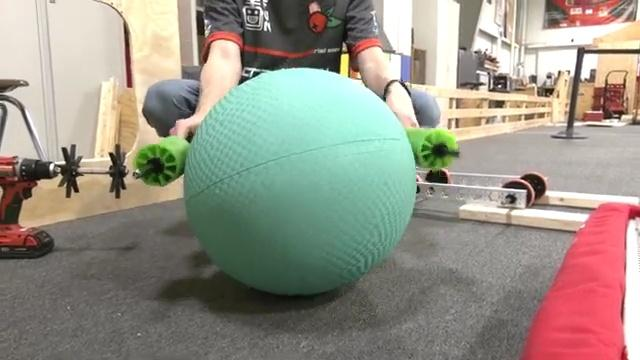ALGAE: (181, 65, 418, 297)
